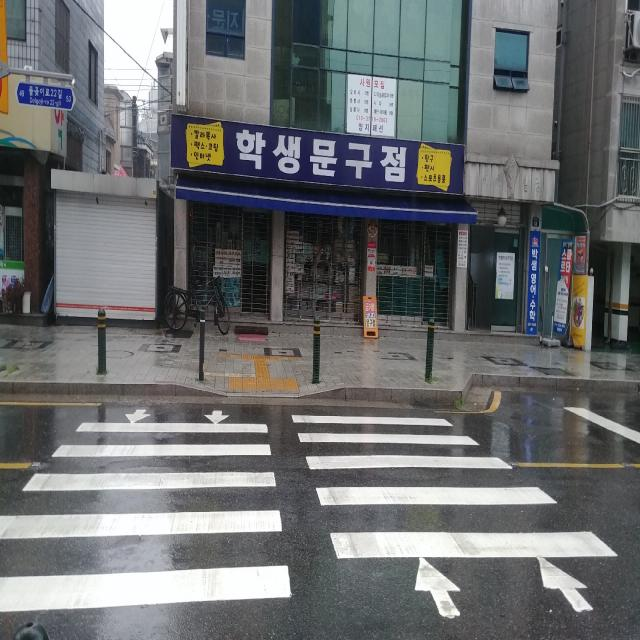횡단보도: (0, 407, 619, 618)
